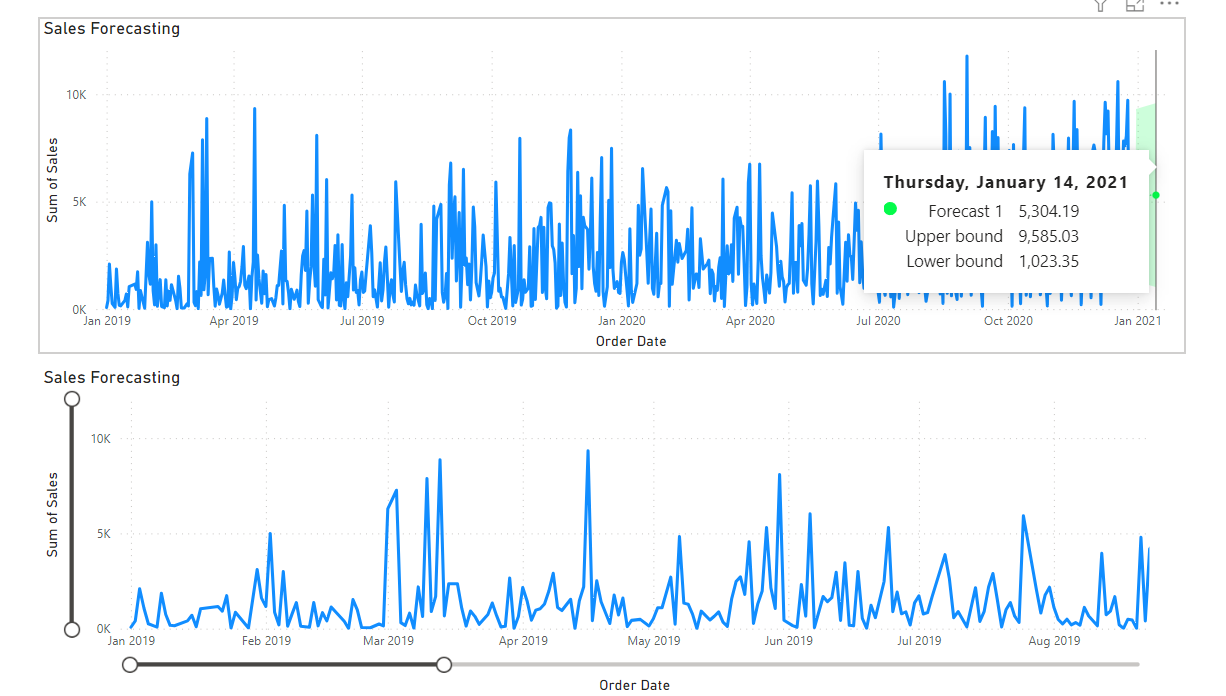

Layout of this report page (visuals, bound fields, positions):
{"tool":"powerbi","page":{"name":"Page 2","canvas":[1280,720],"ordinal":1},"visuals":[{"type":"lineChart","title":"Sales Forecasting","fields":{"Y":["Sum(SuperStore_Sales_Dataset.Sales)"],"Category":["SuperStore_Sales_Dataset.Order Date"]},"box":[105.1,31.8,1122.2,328.8],"z":0},{"type":"lineChart","title":"Sales Forecasting","fields":{"Y":["Sum(SuperStore_Sales_Dataset.Sales)"],"Category":["SuperStore_Sales_Dataset.Order Date"]},"box":[105.1,372.8,1107.5,323.9],"z":1}]}

Visuals, with their boxes in screenshot pixels (x1, y1, x2, y2), scaled from the page's 1280x720 canvas onto the 1226x696 screenshot:
"Sales Forecasting" lineChart: [left=101, top=31, right=1176, bottom=349]
"Sales Forecasting" lineChart: [left=101, top=360, right=1161, bottom=673]
